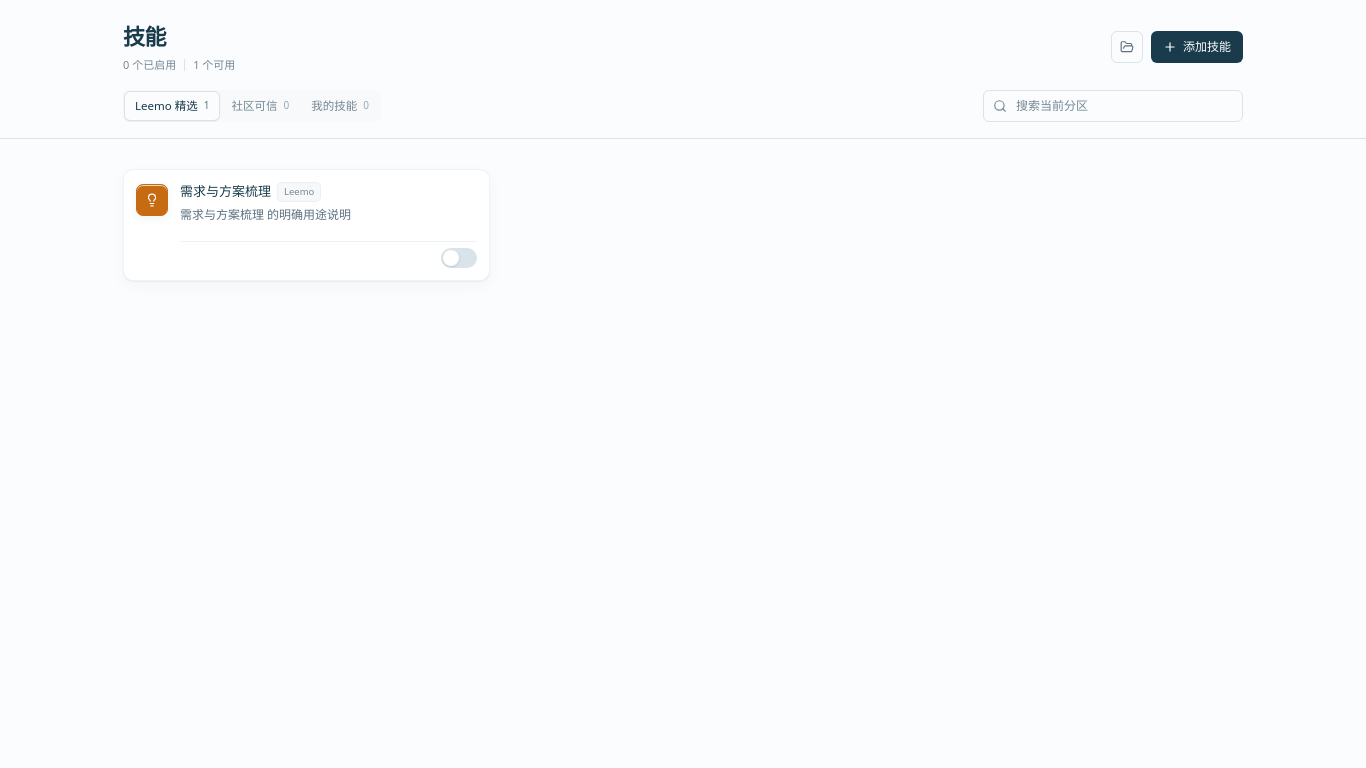
Test: SkillsPage — product-facing sections › loads the real SKILL.md for an installed Leemo Skill instead of leaving Usage empty
This screenshot has width=1366, height=768.
Click the button with aria-label "查看 需求与方案梳理 详情".
click(226, 192)  # box x1=180 y1=182 x2=271 y2=201
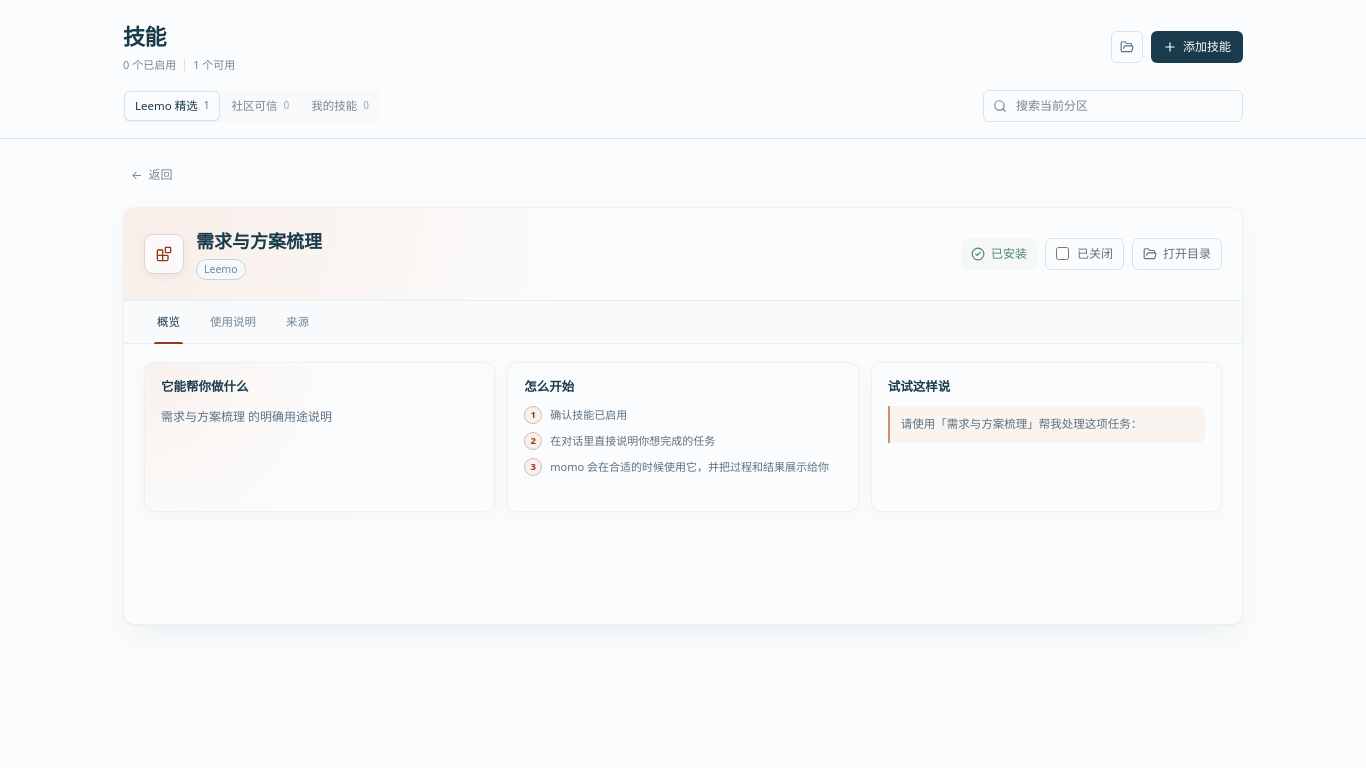
Click the tab "使用说明".
click(233, 322)  # box x1=197 y1=300 x2=269 y2=342
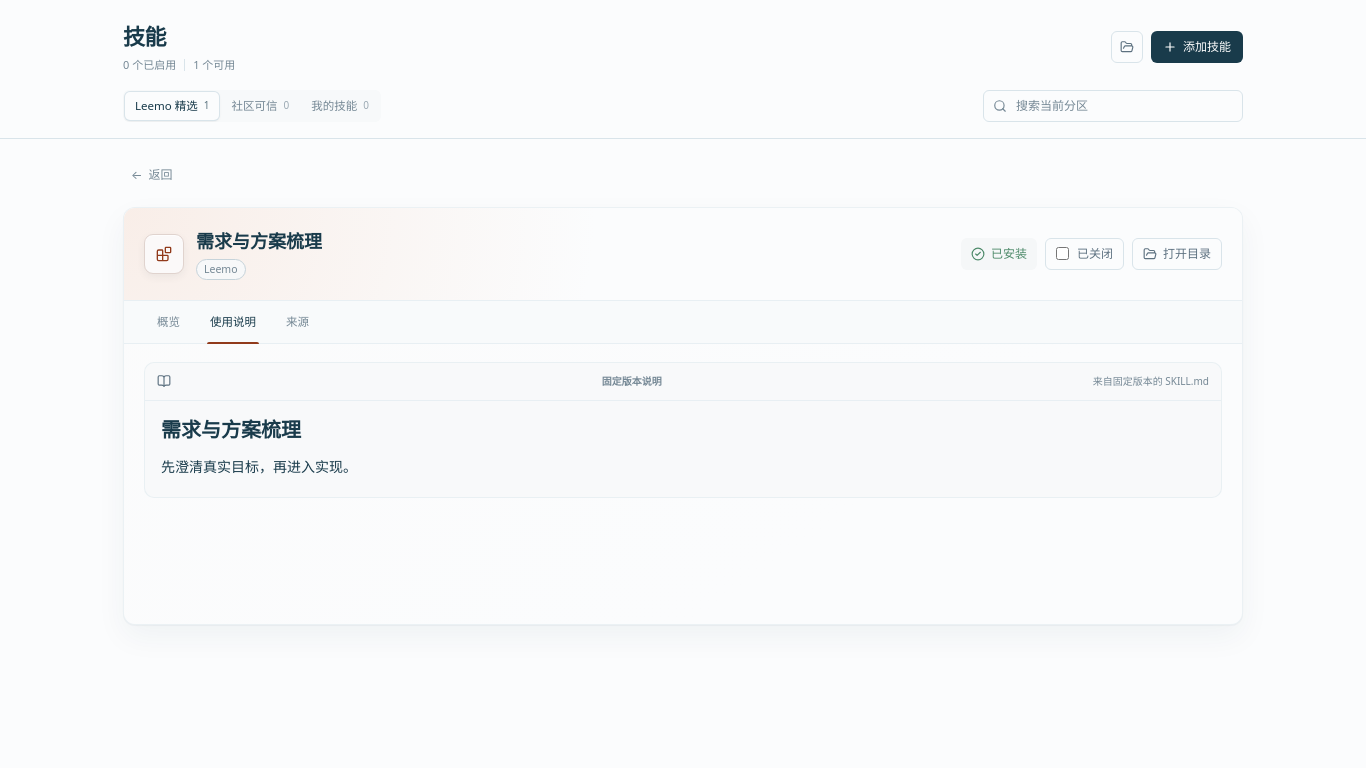
Expected: the text "先澄清真实目标，再进入实现。" is shown, x1=161 y1=456 x2=357 y2=476
